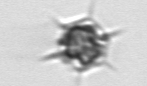plankton: (42, 8, 127, 83)
